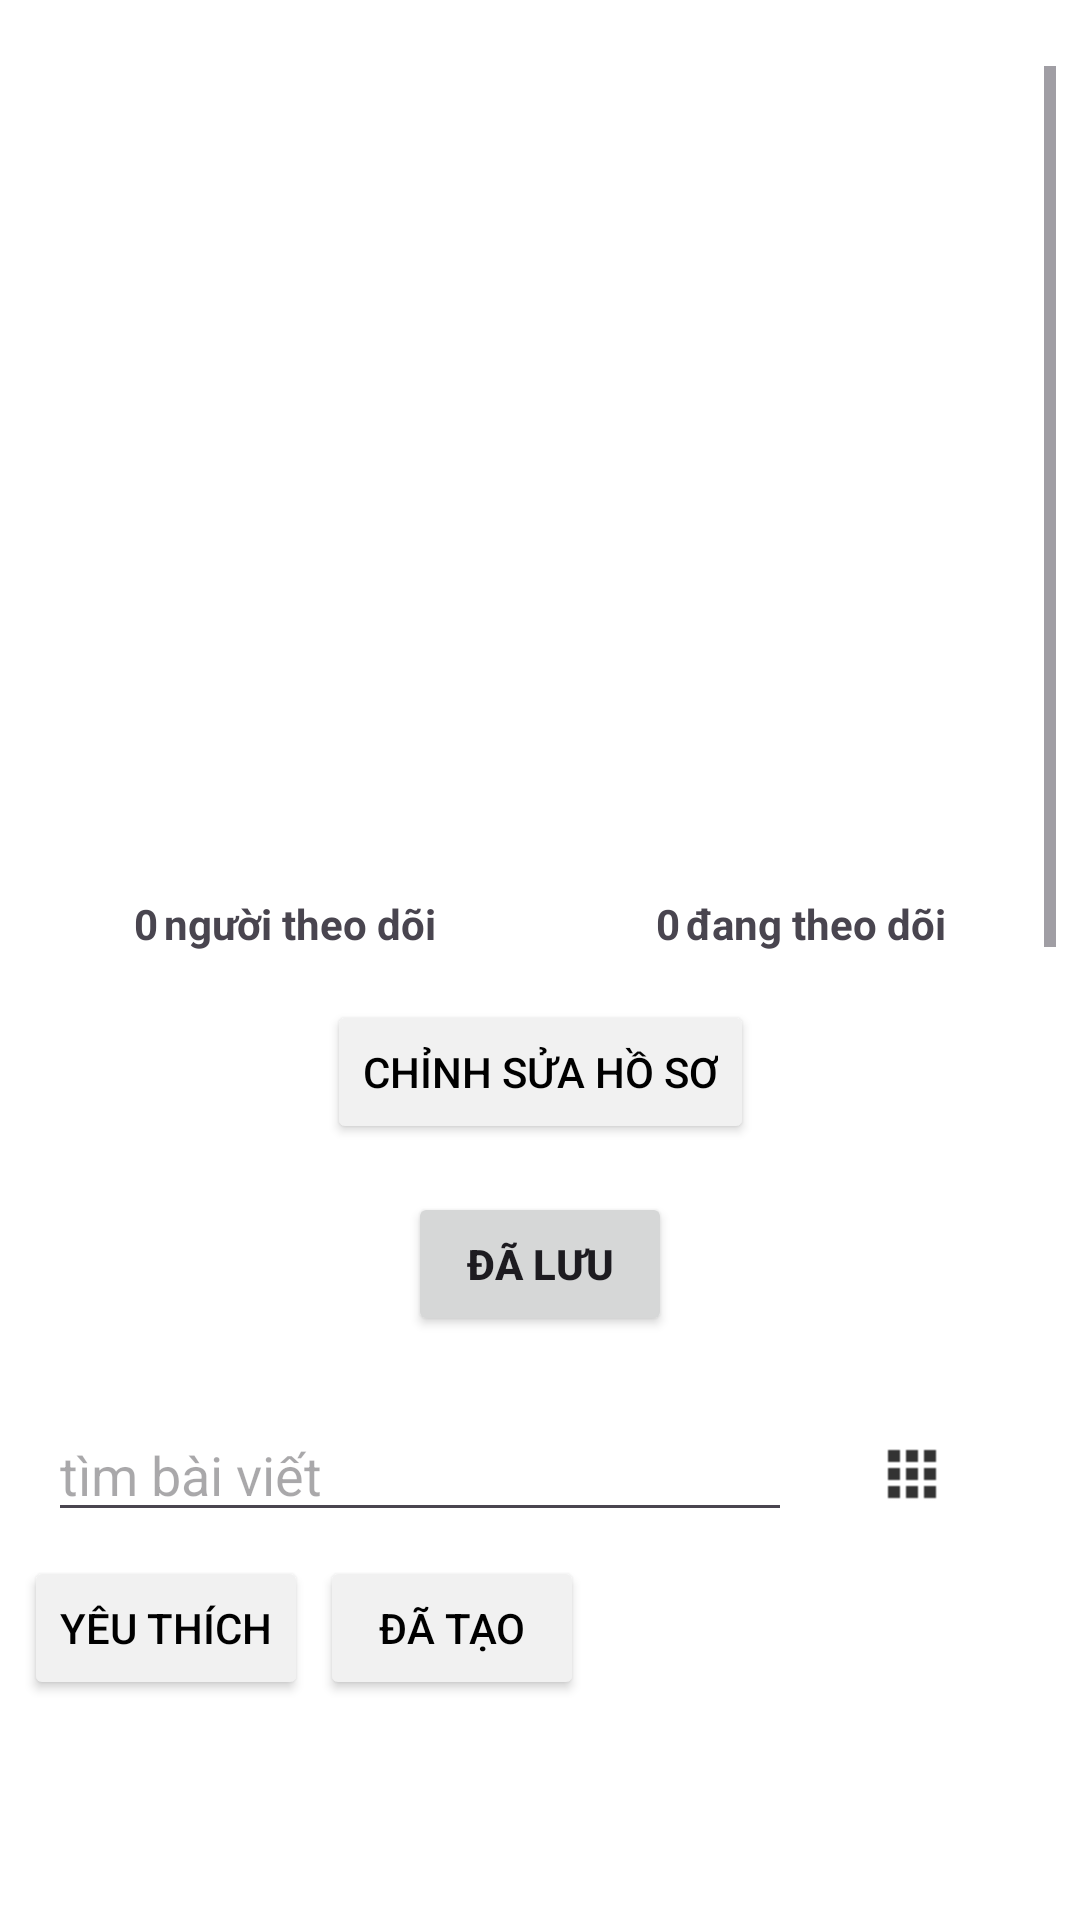

Icon click points for this 1080x1920 phone screenshot, format [x,y]:
layout: [912,1474]
